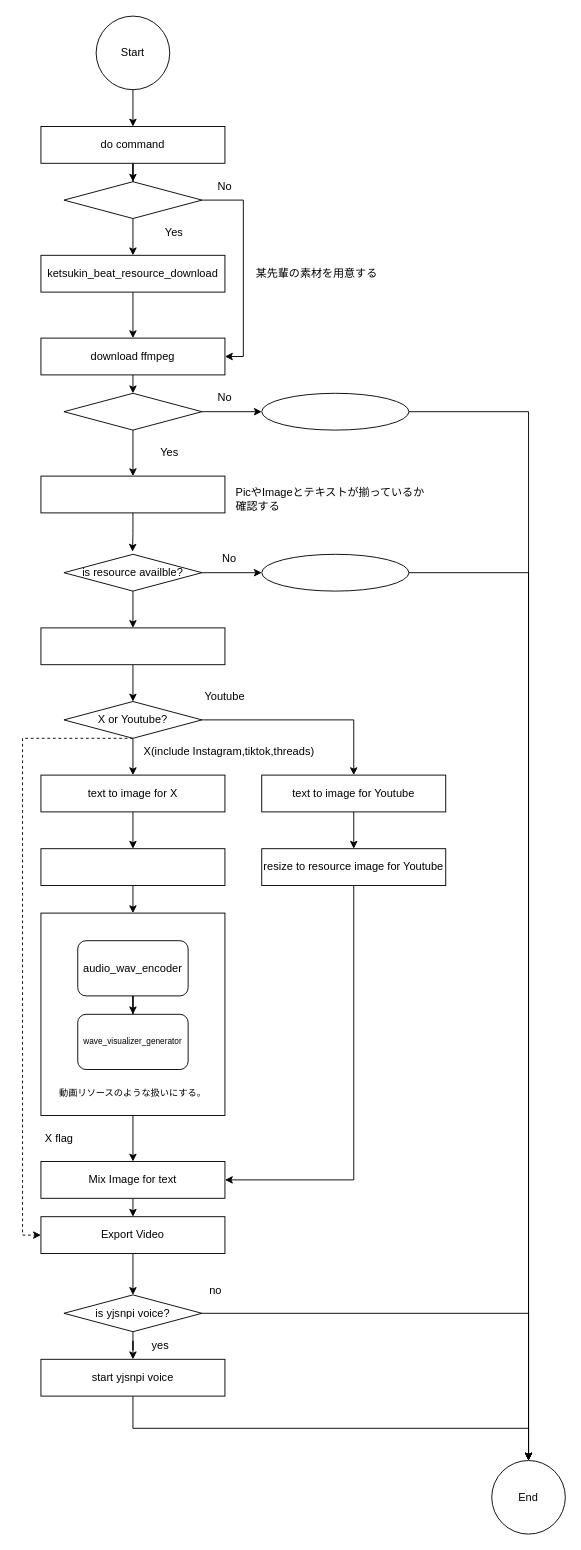
Some shapes in this 581 by 1550 pixel diagram are drawn without their labels. Each missing label, with the box of its shape:
Check Resorce: (40, 475, 225, 513)
Create visualizer resource: (40, 912, 225, 1116)
is Install ffmpeg?: (63, 392, 202, 430)
is ketsukin?: (63, 181, 202, 218)
resize to resource image for X: (40, 848, 225, 886)
Select upload site: (40, 627, 225, 665)
Show check resouce: (261, 553, 409, 591)
Show install command: (261, 392, 409, 430)
